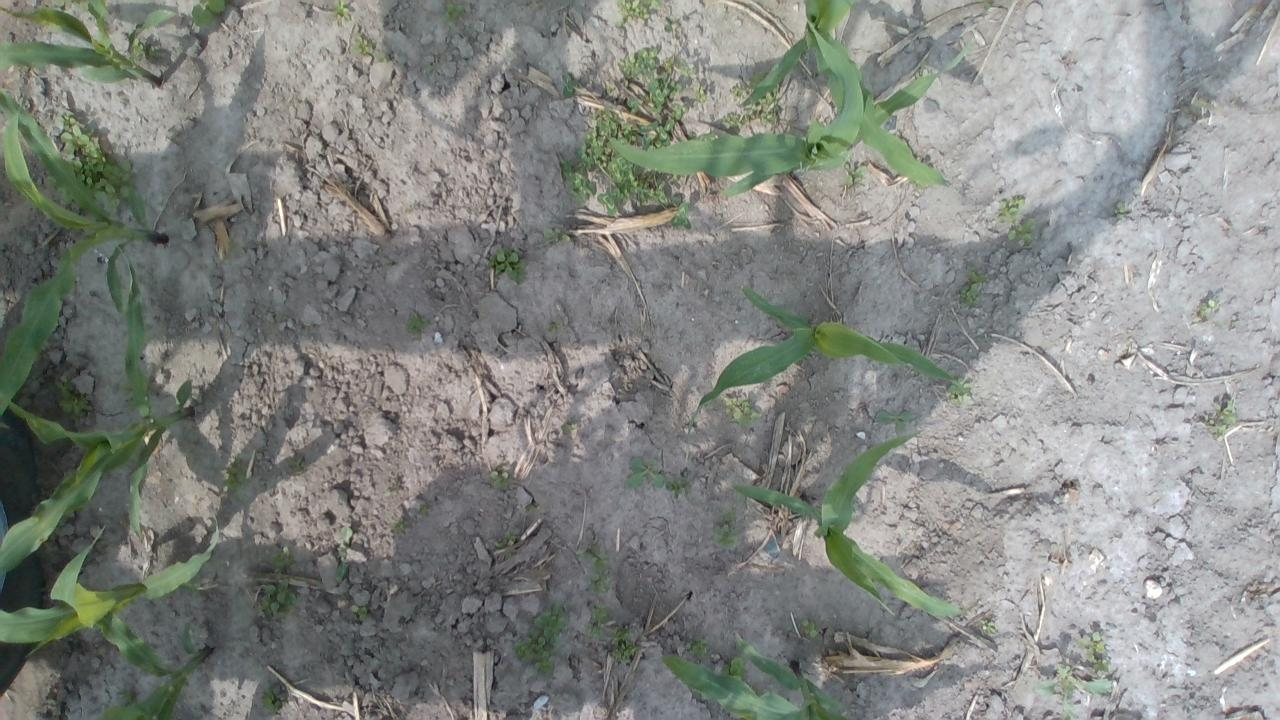Maize: (0, 239, 195, 579), (608, 44, 970, 204), (0, 82, 167, 418), (730, 432, 961, 623), (740, 0, 956, 192), (690, 284, 966, 430), (0, 515, 226, 644), (662, 631, 848, 720), (0, 0, 179, 90), (93, 609, 215, 720)
Weeds: (580, 103, 688, 218), (248, 545, 302, 627), (514, 603, 572, 676), (1034, 666, 1112, 720), (64, 158, 138, 211), (54, 110, 108, 160), (560, 158, 598, 206), (486, 246, 527, 288), (744, 84, 781, 128), (50, 378, 90, 417), (617, 46, 657, 84), (626, 456, 666, 490), (648, 74, 682, 114), (720, 397, 761, 430), (614, 0, 660, 28), (222, 454, 254, 494), (1206, 398, 1236, 439), (1078, 632, 1108, 672), (334, 526, 354, 584), (190, 0, 227, 30), (609, 626, 638, 663), (584, 602, 610, 640), (714, 507, 737, 549), (960, 268, 985, 305), (878, 408, 912, 435), (588, 550, 609, 593), (943, 379, 974, 407), (661, 55, 694, 81), (1006, 218, 1036, 246), (402, 311, 432, 337), (259, 684, 283, 716), (996, 196, 1024, 223), (720, 656, 749, 681), (841, 161, 866, 188), (670, 202, 692, 230), (493, 530, 513, 560), (441, 1, 464, 26), (685, 636, 711, 658), (718, 112, 748, 131), (1197, 296, 1217, 322), (542, 226, 570, 244), (666, 477, 689, 498), (351, 34, 372, 56), (331, 0, 351, 23), (799, 616, 818, 640), (558, 72, 576, 97), (44, 175, 63, 198), (488, 470, 509, 490), (118, 684, 136, 704), (287, 456, 305, 476), (131, 38, 146, 62), (626, 96, 645, 114), (350, 603, 368, 621), (729, 84, 752, 98), (374, 48, 392, 65), (546, 319, 562, 337), (692, 85, 708, 103), (980, 619, 996, 634), (750, 70, 765, 86), (51, 0, 80, 8), (1112, 202, 1125, 219), (227, 239, 240, 256), (389, 517, 406, 529), (606, 82, 616, 96), (148, 47, 160, 58), (663, 19, 672, 33), (562, 424, 577, 432), (918, 58, 928, 69), (80, 3, 90, 14), (416, 505, 428, 512), (382, 488, 392, 496), (528, 504, 534, 512)
